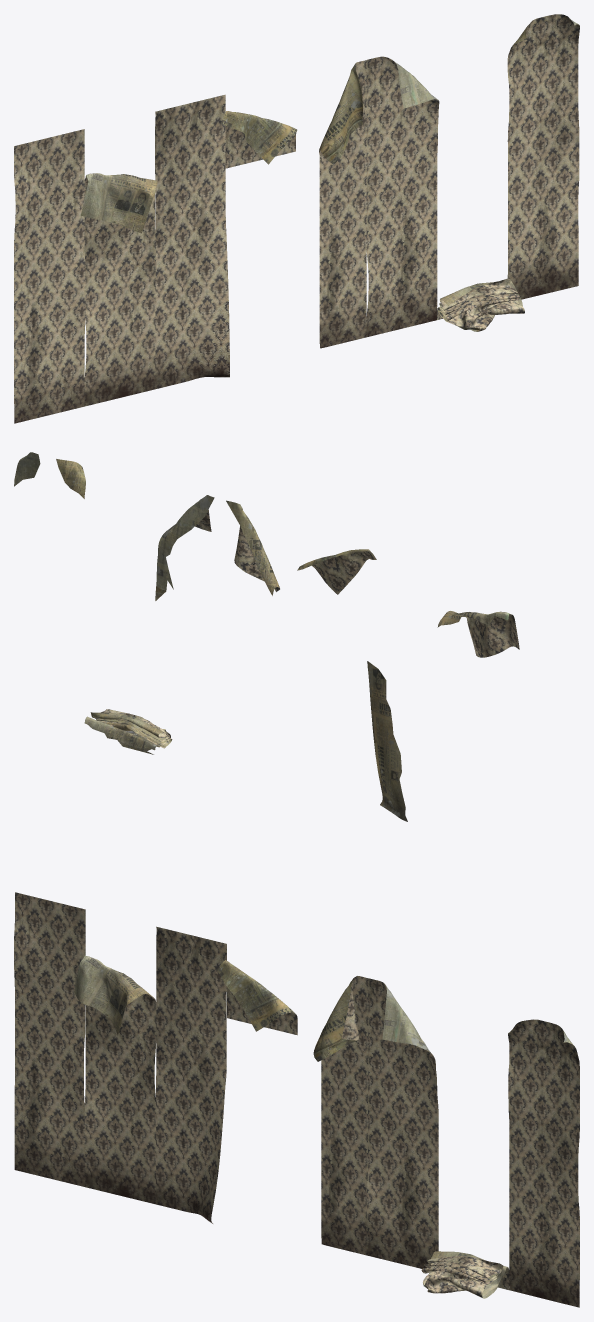
File: old_wallpaper.glb
3 renders of one model, top to bottom at view 1: azimuth 30°, elevation 25°; view 2: azimuth 150°, elevation 25°; view 3: azimuth 330°, elevation 25°, orthographic.
Bounding box in the file's own units: 8.86 × 4.16 × 0.7333.
Materials: 1 (1 with a texture image).
